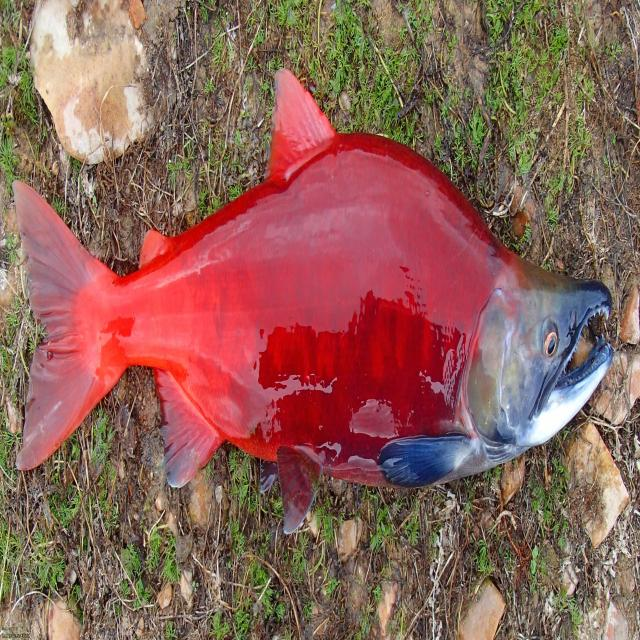salmon: (11, 64, 618, 547)
